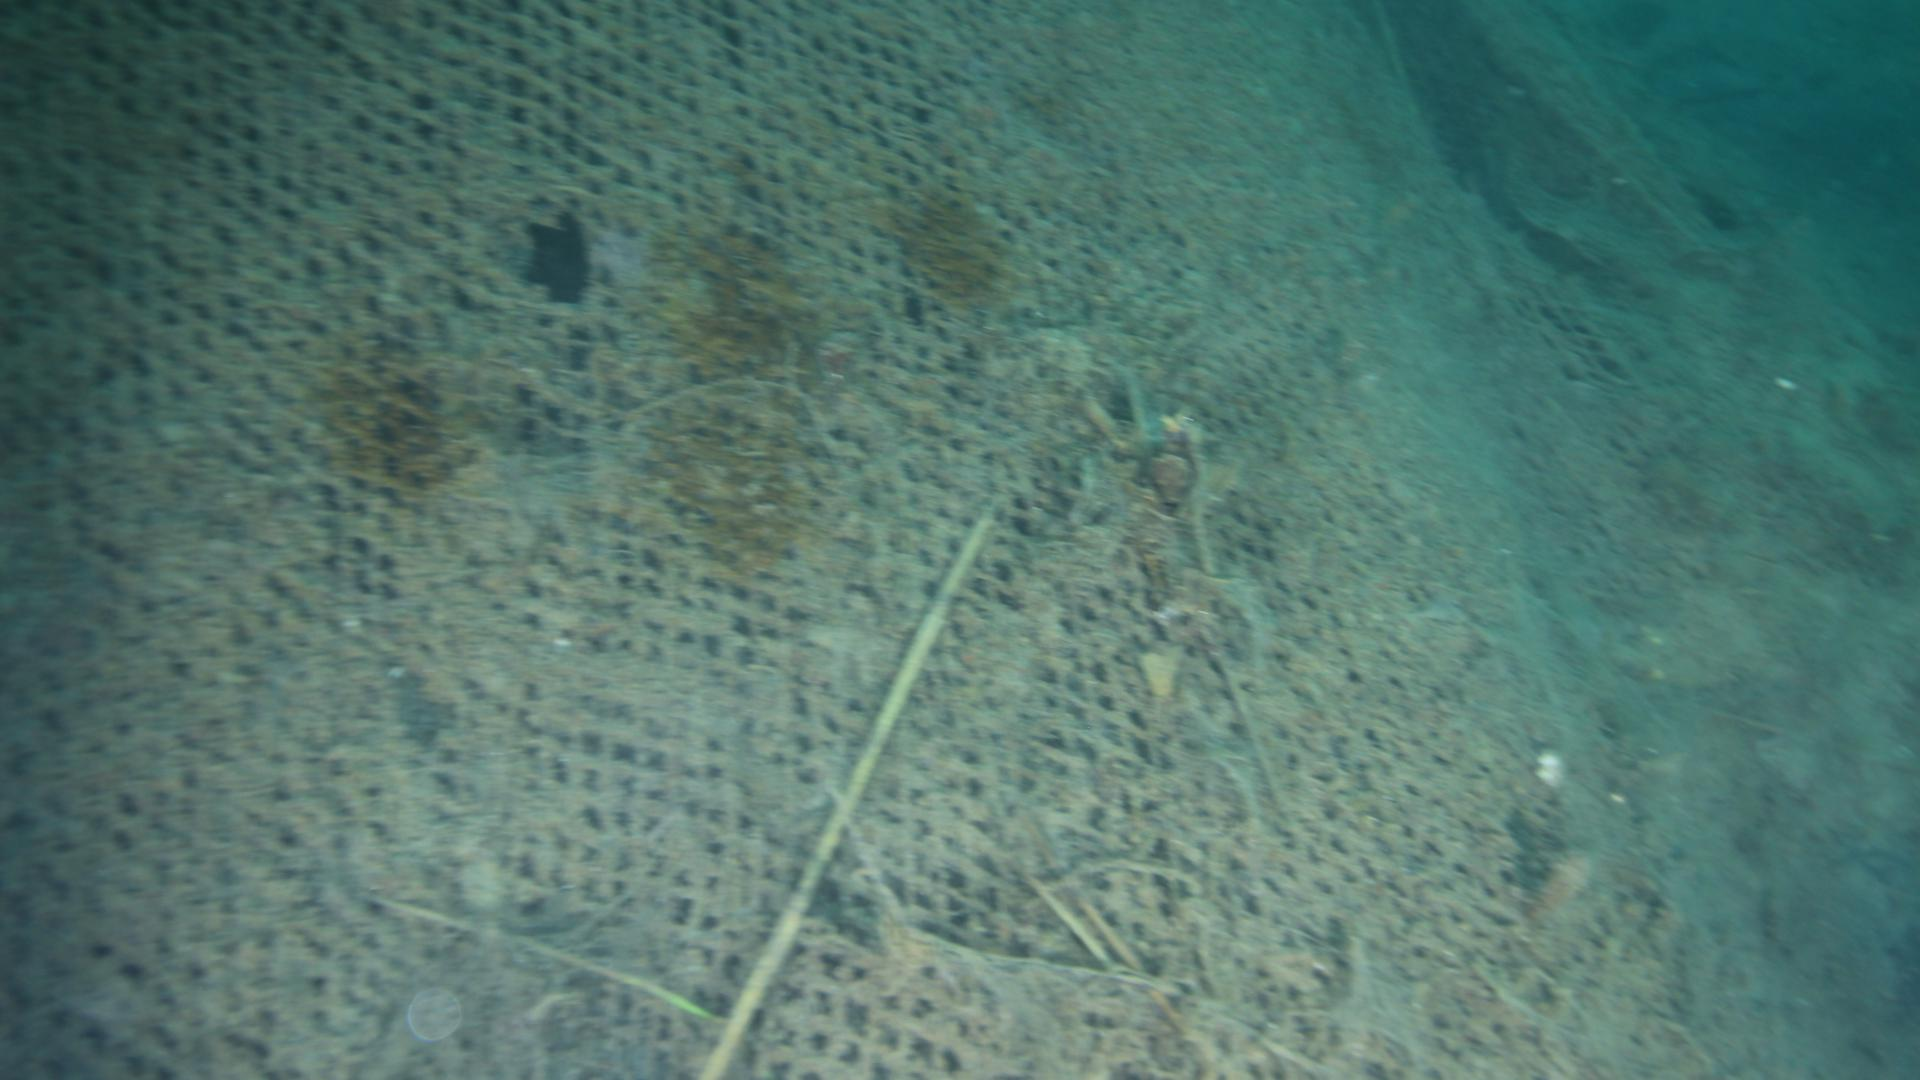fish net: (0, 0, 1619, 1080)
